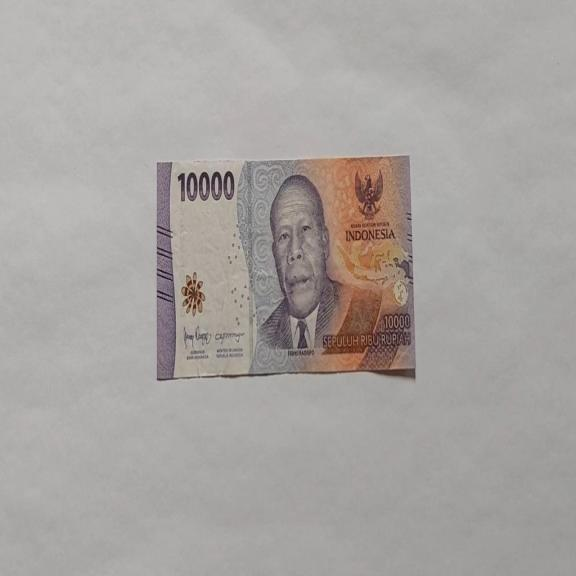Kertas: (156, 154, 415, 380), (176, 167, 236, 203)
